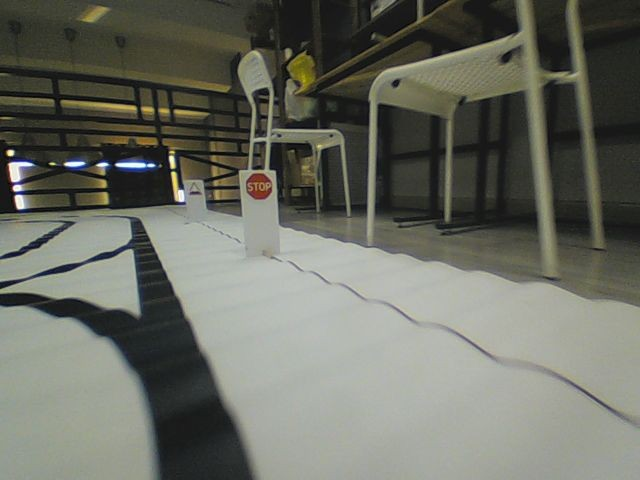Nerov: (188, 182, 202, 196)
Stop: (245, 172, 273, 200)
